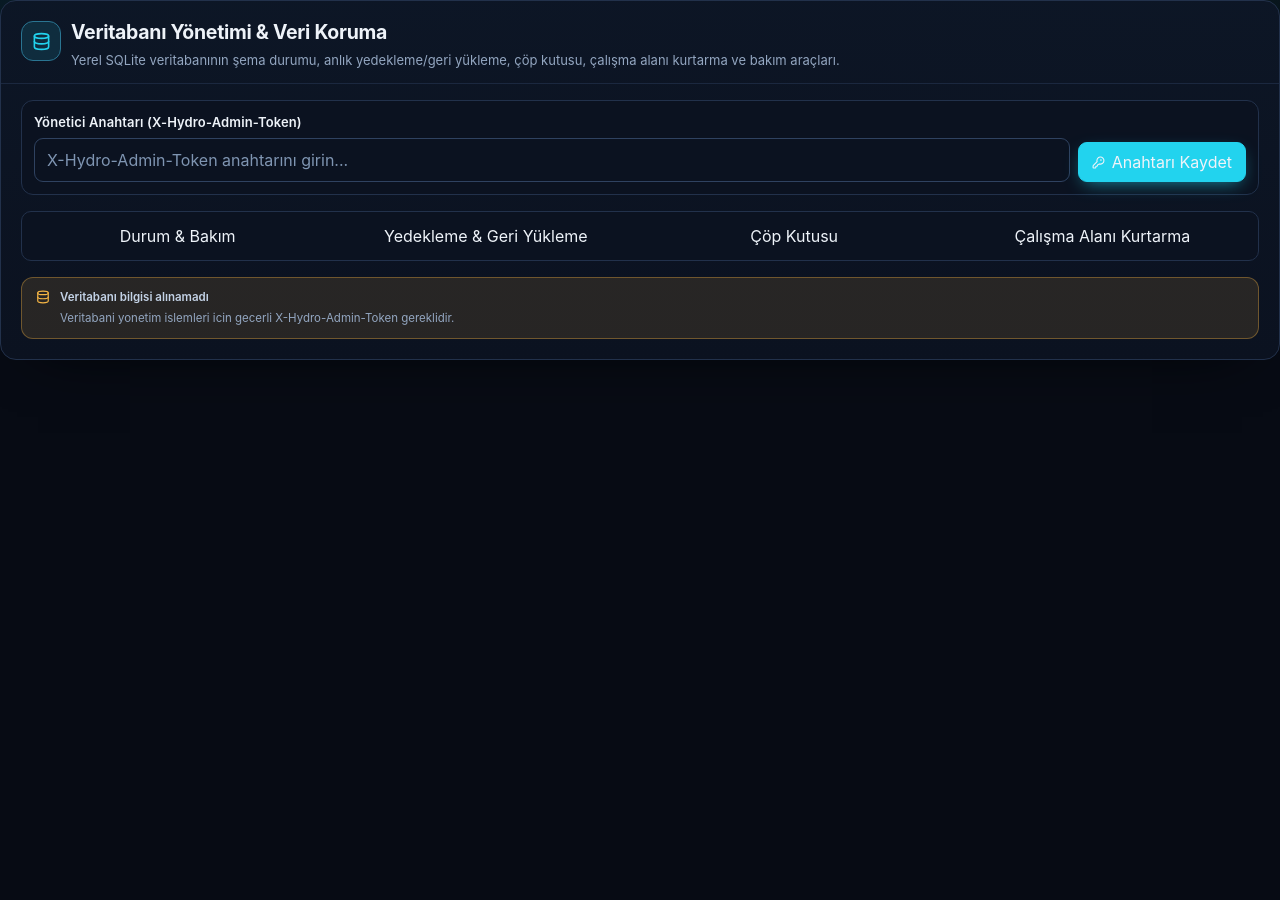
Test: Slice 2: Docker Admin Token UI (F4) & Offline Fallback Hardening (F3) › F4: saves admin token to sessionStorage and sends X-Hydro-Admin-Token on /system/* requests
Type "docker-secret-42" into the password field with placeholder "X-Hydro-Admin-Token anahtarını girin..." at coordinates (552, 160), box [34,138,1070,182]
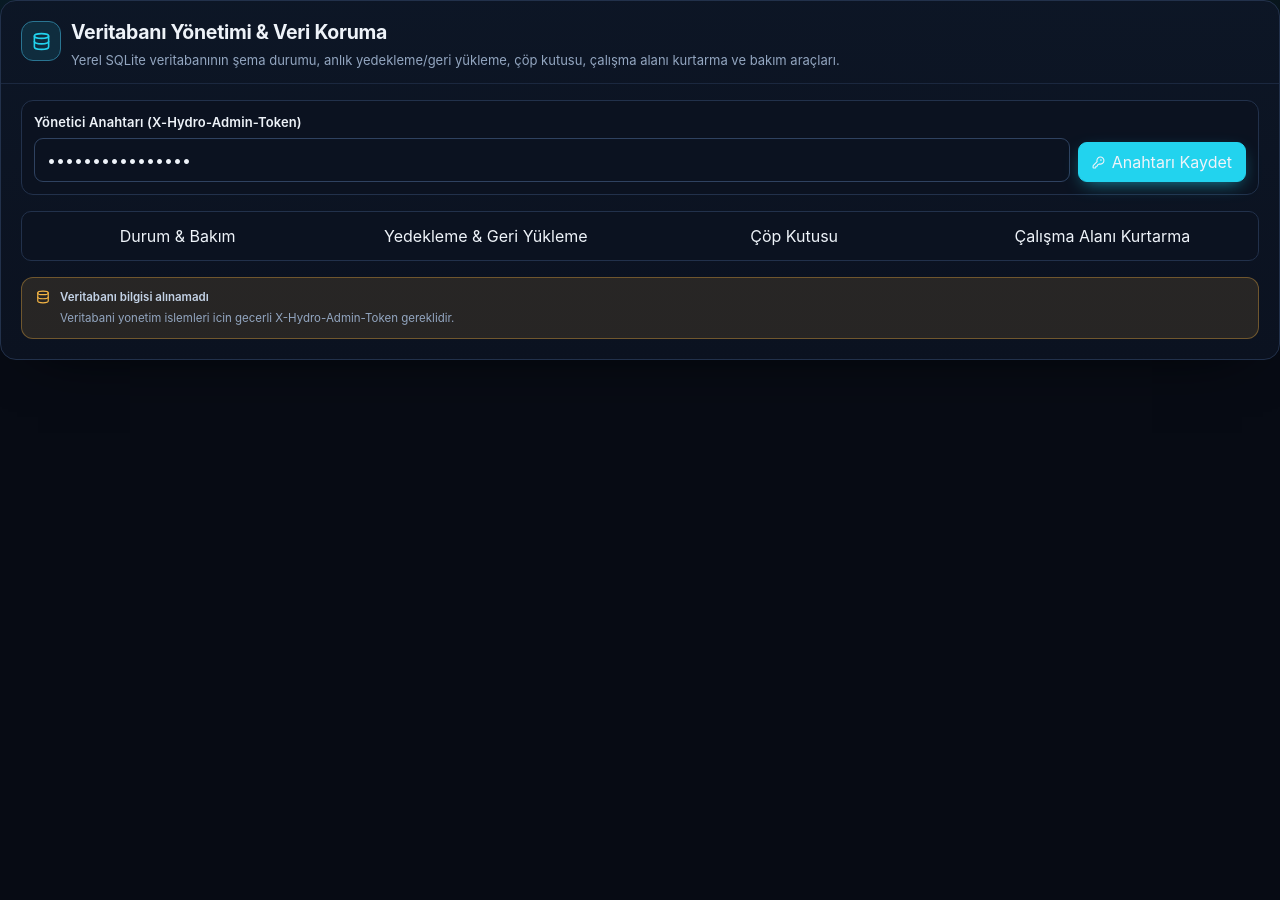
Click the button "Anahtarı Kaydet" at coordinates (1162, 162), box [1078,142,1246,182]
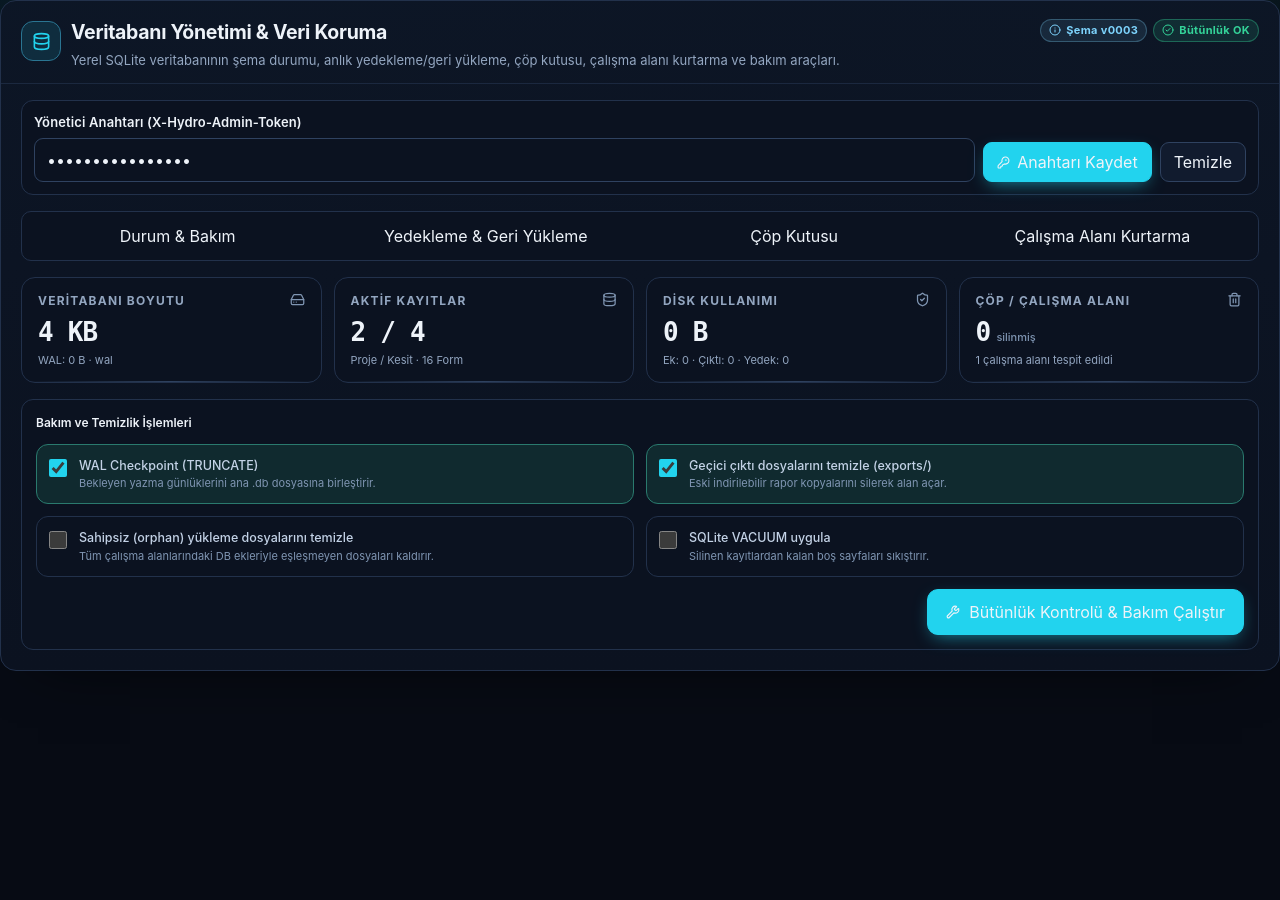
expect the text "Bütünlük OK" is shown: met, box [1153,19,1259,42]
